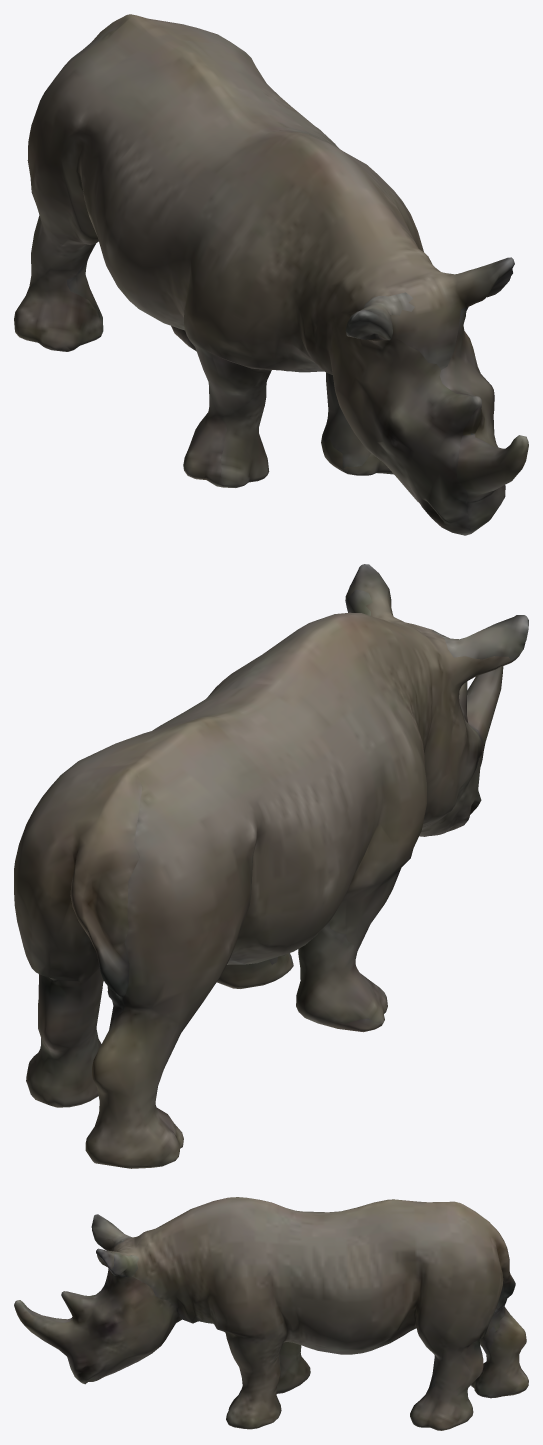
Rendered from Schleich_African_Black_Rhino-high.glb.
The picture shows the model from 3 angles, top to bottom: view 1: azimuth 30°, elevation 25°; view 2: azimuth 150°, elevation 25°; view 3: azimuth 270°, elevation 25°; orthographic projection. The views are drawn at different scales.
Visible parts, largest first — view 1: Schleich_African_Black_Rhino; view 2: Schleich_African_Black_Rhino; view 3: Schleich_African_Black_Rhino.
Part boxes in pixels (box(x1,y1,x2,y2)): Schleich_African_Black_Rhino: box(14, 14, 528, 535); Schleich_African_Black_Rhino: box(14, 564, 528, 1168); Schleich_African_Black_Rhino: box(14, 1197, 528, 1430).
Size of the model in its own units: 0.0411 by 0.06 by 0.1374.
1 material, 1 textured.
